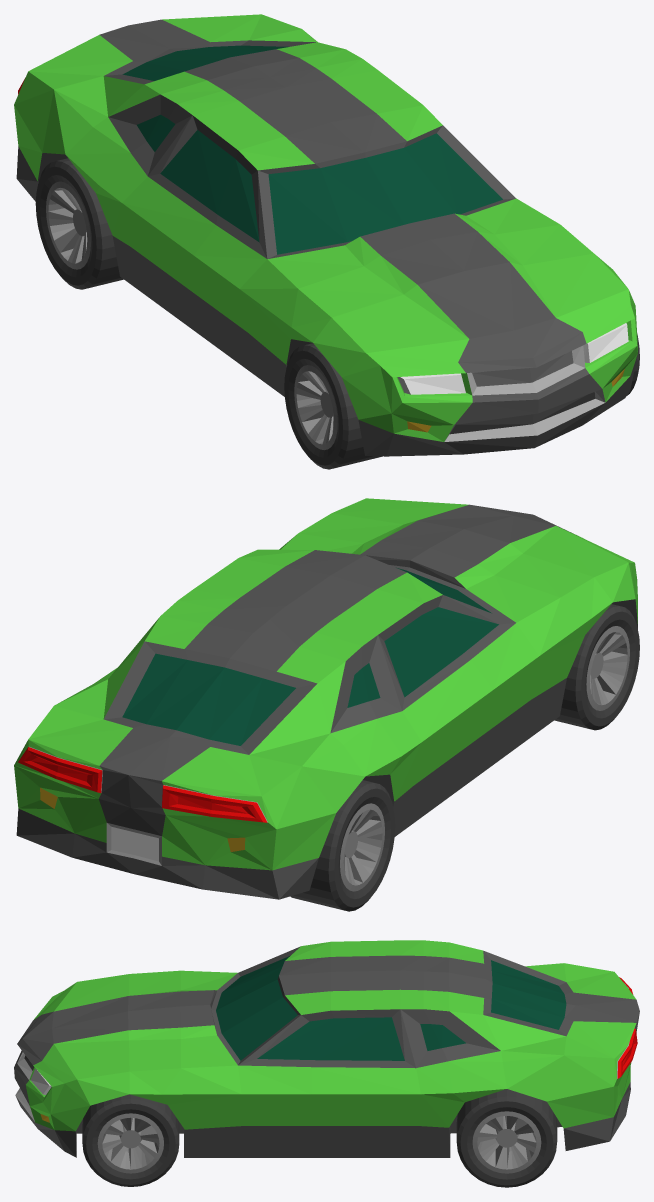
3 renders of one model, top to bottom at view 1: azimuth 30°, elevation 25°; view 2: azimuth 150°, elevation 25°; view 3: azimuth 270°, elevation 25°, orthographic. The views are drawn at different scales.
Visible parts, largest first — view 1: CarBody, WRR, WFR; view 2: CarBody, WRR, WFR, TailLight; view 3: CarBody, WRL, WFL, TailLight.
Boxes of the visible parts, bbox=[...] form: CarBody: bbox=[14, 14, 637, 456]; WRR: bbox=[35, 158, 123, 289]; WFR: bbox=[284, 343, 382, 469]; CarBody: bbox=[14, 498, 637, 899]; WRR: bbox=[290, 780, 395, 911]; WFR: bbox=[554, 604, 639, 730]; TailLight: bbox=[18, 747, 267, 822]; CarBody: bbox=[14, 940, 639, 1157]; WRL: bbox=[456, 1089, 557, 1187]; WFL: bbox=[82, 1094, 179, 1186]; TailLight: bbox=[617, 977, 637, 1078].
Size of the model in its own units: 359 by 242 by 845.
